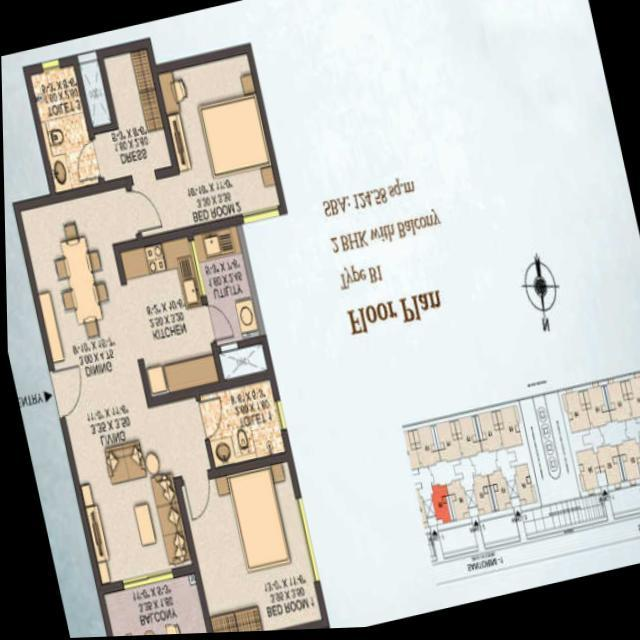Balcony-Sitout: (102, 575, 204, 637)
Bedroom: (179, 461, 319, 634)
Bedroom with Toilet: (26, 44, 282, 244)
Dining: (41, 210, 118, 348)
Dress: (95, 51, 171, 181)
Enterance-Foyer: (12, 363, 89, 430)
Kitchen: (121, 240, 217, 396)
Living: (66, 404, 190, 586)
Toilet: (31, 67, 99, 193), (198, 383, 283, 468)
Utility: (193, 229, 260, 347)
